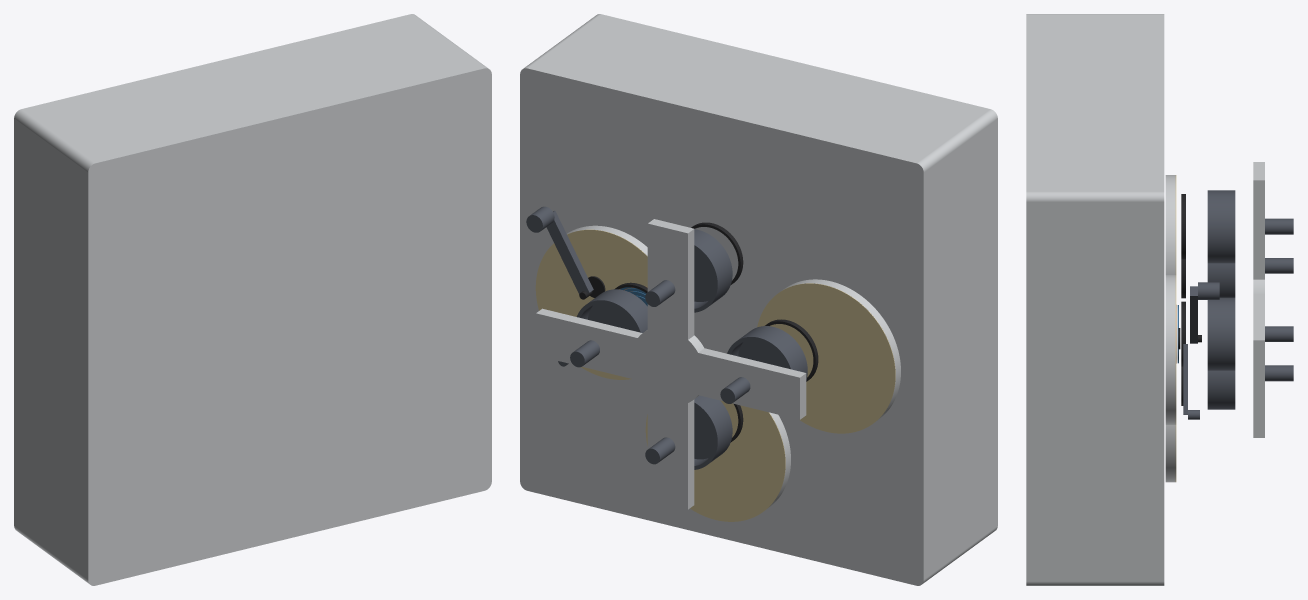
The model's file is assembly.glb.
The picture shows the model from 3 angles, left to right: view 1: azimuth 30°, elevation 25°; view 2: azimuth 150°, elevation 25°; view 3: azimuth 270°, elevation 25°; orthographic projection. The views are drawn at different scales.
Parts seen in each view (by area): view 1: polish_base; view 2: polish_base, pads, carousel, carrier_heads, platens, conditioner_arm, retaining_rings; view 3: polish_base, carrier_heads, platens, carousel, retaining_rings, conditioner_arm, pads, slurry_arm.
Boxes of the visible parts, left/top/right/bottom form: polish_base: left=14, top=14, right=491, bottom=585; polish_base: left=520, top=14, right=997, bottom=585; pads: left=535, top=229, right=895, bottom=521; carousel: left=536, top=219, right=806, bottom=509; carrier_heads: left=570, top=229, right=807, bottom=469; platens: left=567, top=225, right=900, bottom=509; conditioner_arm: left=526, top=206, right=593, bottom=294; retaining_rings: left=614, top=222, right=818, bottom=442; polish_base: left=1026, top=14, right=1164, bottom=585; carrier_heads: left=1207, top=190, right=1293, bottom=409; platens: left=1165, top=175, right=1175, bottom=482; carousel: left=1253, top=162, right=1264, bottom=437; retaining_rings: left=1181, top=194, right=1185, bottom=405; conditioner_arm: left=1190, top=282, right=1219, bottom=343; pads: left=1175, top=175, right=1176, bottom=481; slurry_arm: left=1183, top=344, right=1199, bottom=419.
Size of the model in its own units: 2202 by 2202 by 1355.
